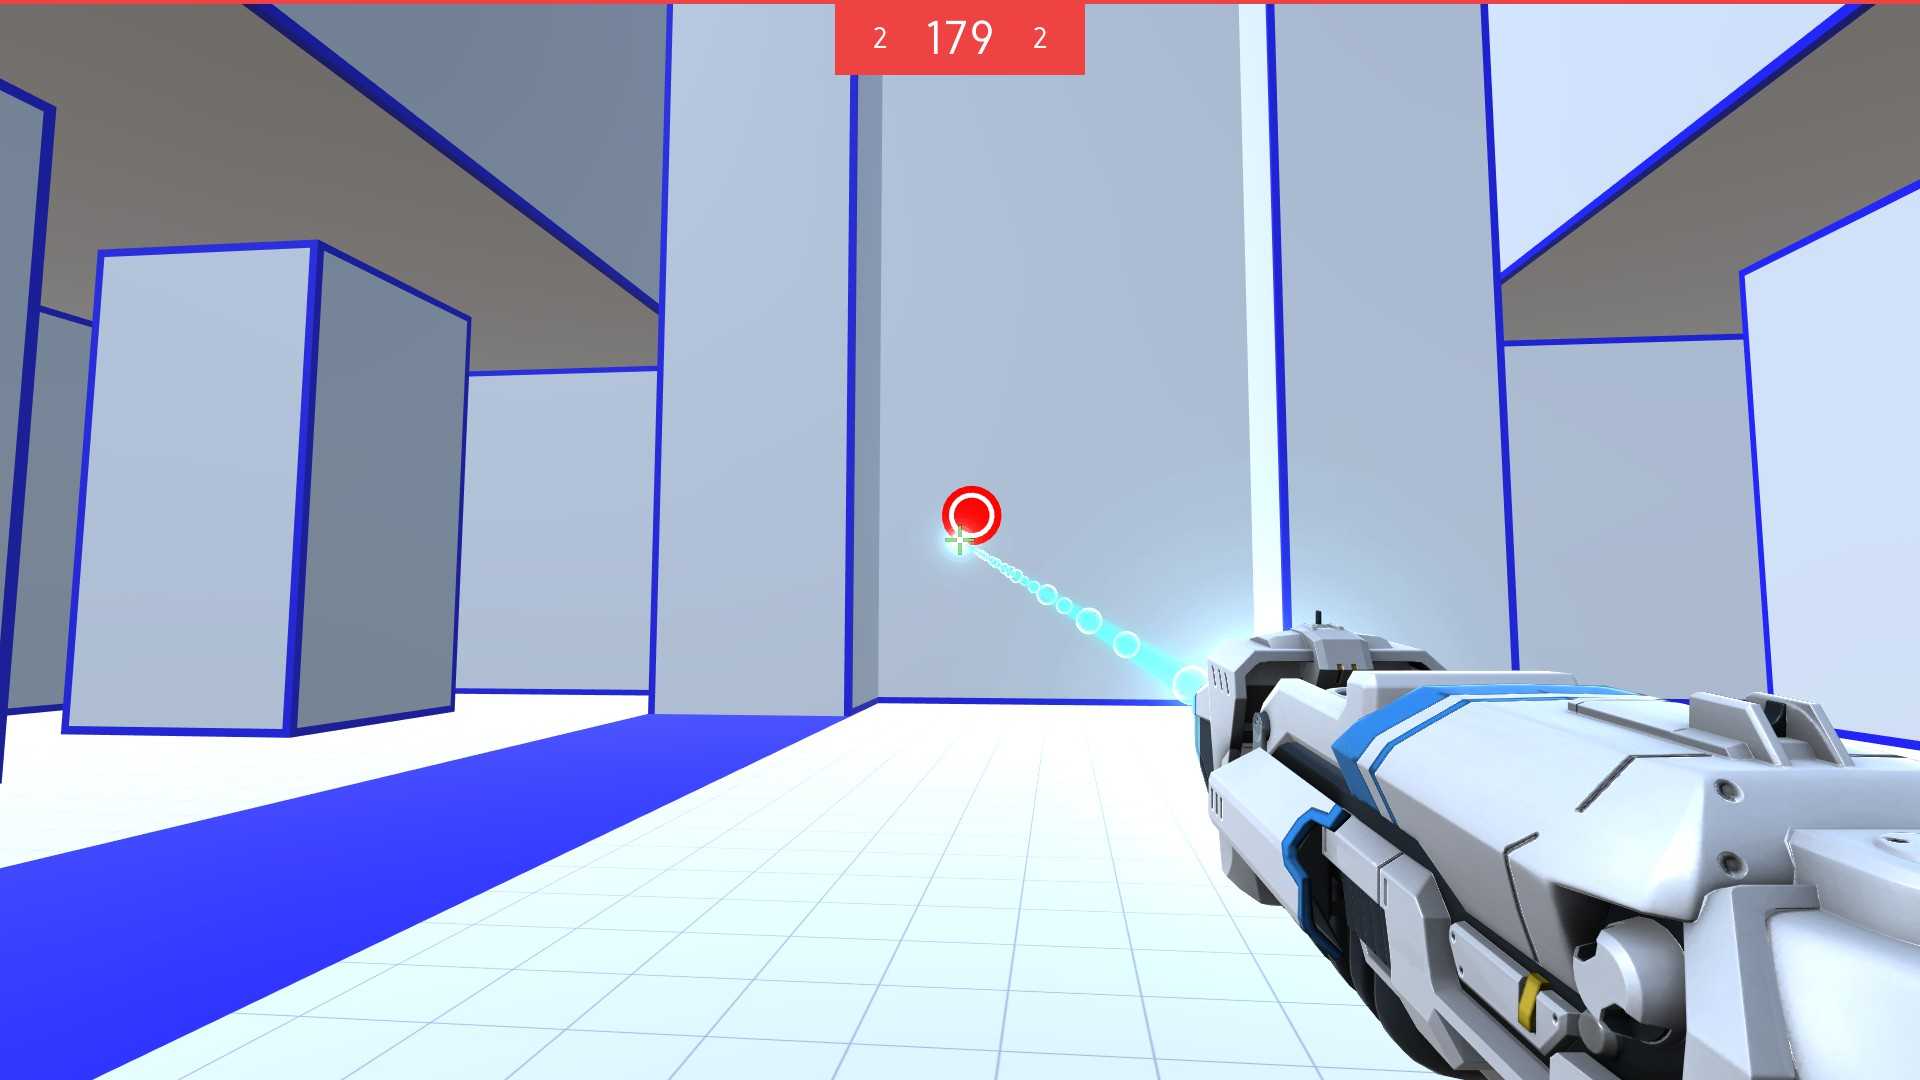target: (942, 485, 1002, 551)
